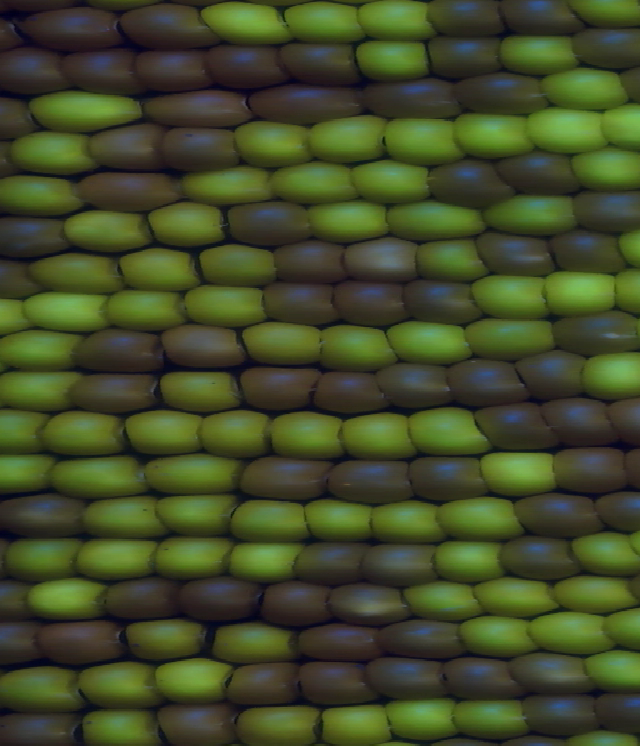fluorescent: (31, 92, 140, 133), (385, 200, 483, 243), (52, 458, 152, 499), (234, 120, 314, 171), (382, 115, 463, 164), (64, 211, 153, 255), (488, 193, 574, 238), (202, 1, 288, 46), (308, 114, 386, 163), (440, 498, 523, 544), (242, 320, 323, 367), (0, 325, 80, 372), (408, 405, 488, 452), (268, 408, 343, 458), (21, 292, 108, 335), (82, 661, 157, 710), (319, 325, 398, 371), (123, 411, 200, 458), (158, 368, 240, 412), (153, 201, 225, 251), (464, 320, 556, 359), (353, 157, 429, 204), (453, 113, 534, 157), (197, 243, 278, 287), (270, 162, 359, 202), (183, 282, 262, 327), (231, 497, 310, 542), (342, 414, 413, 464), (468, 277, 550, 320), (29, 252, 119, 291), (539, 69, 631, 107), (531, 107, 605, 154), (83, 495, 165, 537), (498, 32, 578, 75), (10, 131, 93, 172), (209, 622, 294, 662), (184, 164, 271, 203), (532, 612, 609, 656), (568, 530, 640, 577), (157, 495, 237, 537), (199, 409, 268, 457), (149, 456, 243, 491), (77, 538, 153, 581), (309, 202, 388, 243), (390, 323, 473, 362), (0, 668, 83, 707), (48, 410, 123, 453), (121, 248, 194, 292), (0, 177, 80, 217), (476, 452, 554, 493), (28, 580, 106, 621), (157, 660, 233, 702), (237, 704, 321, 742), (478, 576, 554, 618), (284, 3, 361, 44), (123, 621, 208, 658), (5, 537, 78, 580), (0, 371, 76, 412), (355, 40, 431, 80), (554, 577, 639, 612), (152, 537, 228, 576), (321, 700, 385, 746), (372, 500, 442, 542), (460, 616, 533, 656), (230, 541, 301, 582), (432, 538, 501, 580), (361, 2, 432, 42), (414, 238, 483, 279), (573, 147, 640, 189), (548, 272, 613, 313), (388, 698, 456, 737), (80, 711, 155, 746), (308, 501, 372, 542), (452, 702, 521, 740), (107, 294, 184, 328), (404, 582, 479, 616), (583, 355, 640, 398), (585, 652, 640, 695), (0, 453, 52, 496), (0, 410, 45, 451), (600, 104, 640, 150), (572, 3, 640, 28), (605, 607, 640, 650), (0, 297, 31, 337)
nonfluorescent: (243, 85, 365, 124), (361, 78, 460, 122), (120, 2, 208, 50), (539, 395, 615, 450), (22, 9, 123, 50), (144, 87, 246, 127), (0, 494, 88, 539), (427, 161, 513, 207), (473, 404, 555, 452), (159, 323, 242, 370), (555, 312, 640, 357), (83, 124, 166, 170), (329, 457, 412, 503), (513, 493, 599, 537), (375, 619, 463, 662), (500, 535, 577, 584), (67, 376, 161, 416), (238, 362, 317, 409), (458, 72, 544, 115), (208, 44, 285, 92), (178, 577, 260, 622), (280, 43, 359, 89), (478, 227, 552, 276), (79, 330, 163, 373), (243, 460, 329, 501), (500, 150, 575, 197), (451, 362, 528, 407), (158, 700, 233, 746), (379, 363, 455, 408), (76, 175, 182, 207), (553, 226, 623, 274), (508, 652, 588, 694), (403, 278, 479, 322), (58, 47, 132, 92), (446, 658, 518, 704), (228, 662, 298, 709), (166, 127, 239, 172), (229, 202, 309, 243), (410, 454, 484, 498), (331, 282, 403, 327), (136, 49, 211, 92), (268, 241, 348, 281), (366, 658, 446, 698), (263, 283, 334, 327), (261, 582, 330, 627), (528, 697, 600, 740), (428, 34, 498, 78), (316, 367, 386, 411), (330, 581, 407, 621), (297, 626, 380, 663), (299, 661, 372, 703), (555, 447, 623, 492), (523, 349, 586, 397), (0, 48, 64, 95), (573, 189, 640, 233), (360, 547, 435, 586), (104, 577, 177, 617), (576, 23, 640, 68), (348, 240, 414, 282), (505, 1, 583, 36), (294, 542, 360, 582), (0, 218, 66, 257), (430, 5, 505, 38), (0, 711, 67, 746), (0, 257, 47, 301), (597, 487, 640, 531), (0, 624, 44, 667), (595, 691, 640, 732), (0, 577, 38, 624), (606, 397, 640, 444)
